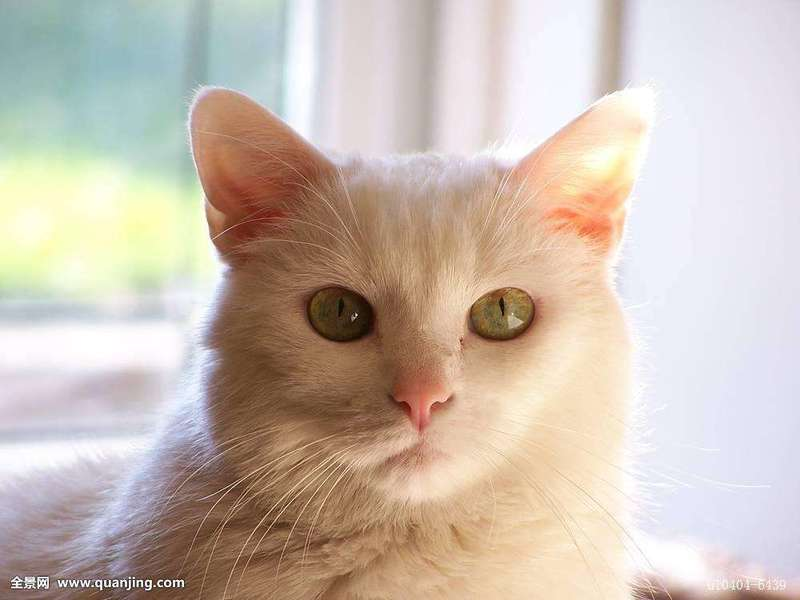cat: (163, 57, 683, 518)
